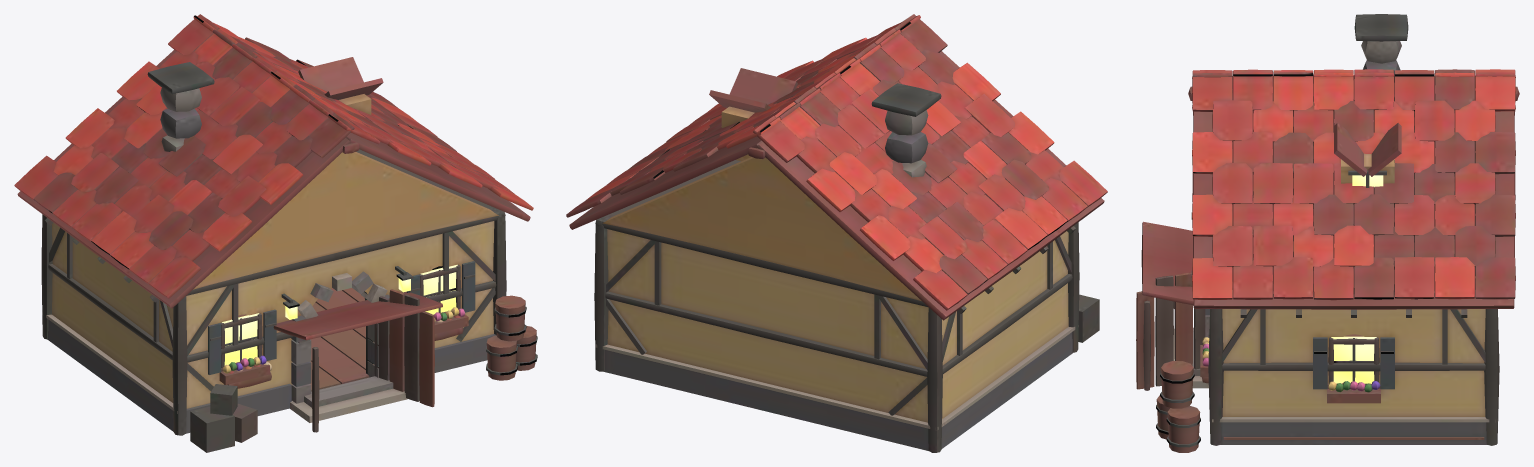
File: house_b.glb
The picture shows the model from 3 angles, left to right: view 1: azimuth 30°, elevation 25°; view 2: azimuth 150°, elevation 25°; view 3: azimuth 270°, elevation 25°; orthographic projection. The views are drawn at different scales.
Parts seen in each view (by area): view 1: main, glow; view 2: main; view 3: main, glow.
Boxes of the visible parts, bbox=[...] form: main: bbox=[14, 14, 537, 452]; glow: bbox=[222, 264, 457, 365]; main: bbox=[566, 14, 1107, 452]; main: bbox=[1136, 14, 1519, 452]; glow: bbox=[1331, 175, 1383, 383].
Size of the model in its own units: 10.35 by 7.65 by 8.91.
2 materials, 1 textured.
